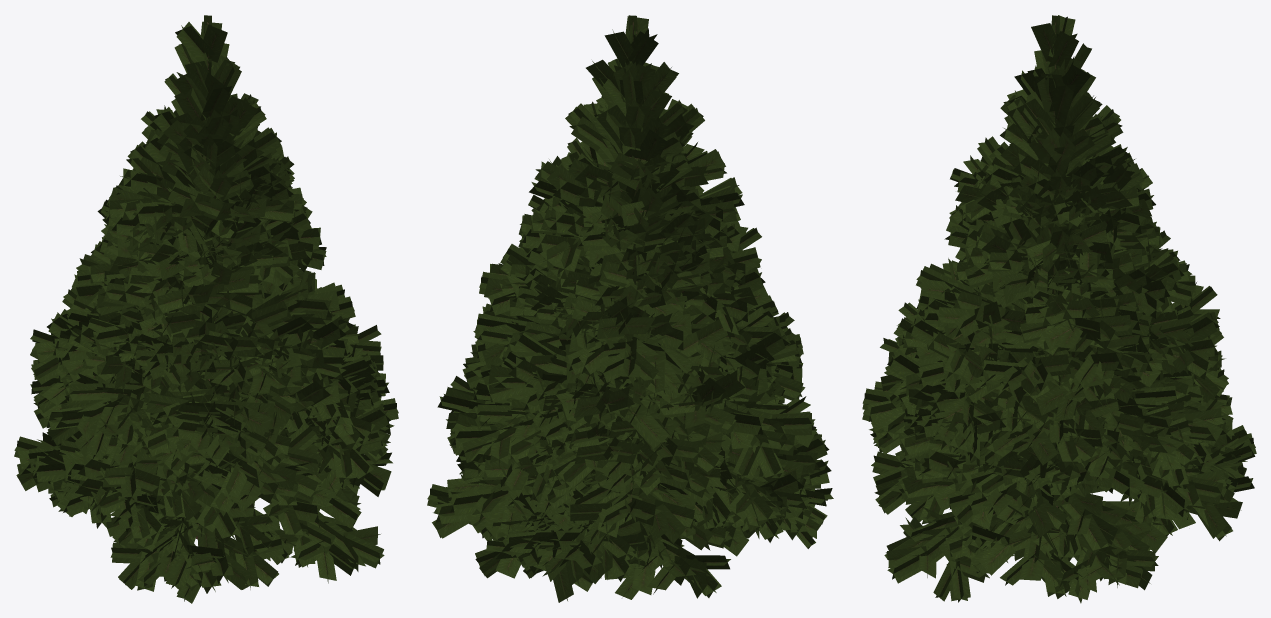
The model's file is tree.fbx.
3 views of the same model, side by side, from view 1: azimuth 30°, elevation 25°; view 2: azimuth 150°, elevation 25°; view 3: azimuth 270°, elevation 25° (orthographic). The views are drawn at different scales.
Parts seen in each view (by area): view 1: g2; view 2: g2; view 3: g2.
Boxes of the visible parts, bbox=[...] form: g2: bbox=[14, 15, 398, 603]; g2: bbox=[427, 15, 833, 602]; g2: bbox=[862, 15, 1256, 603].
Bounding box in the file's own units: 1179 × 1768 × 1177.
Materials: 2 (2 with a texture image).
